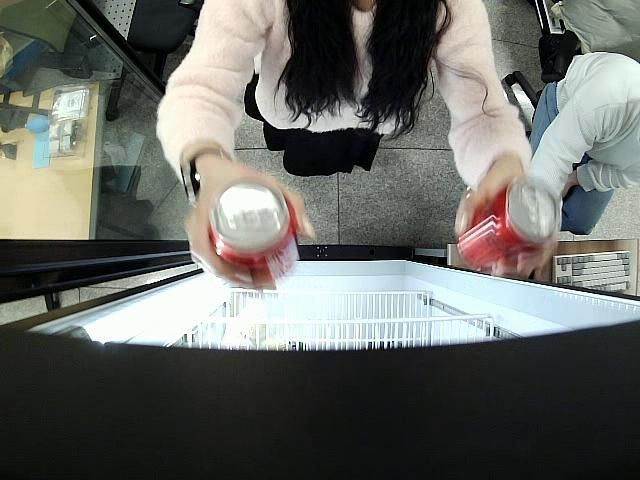11_cocaColaZero: (206, 178, 301, 285), (458, 179, 556, 270)
